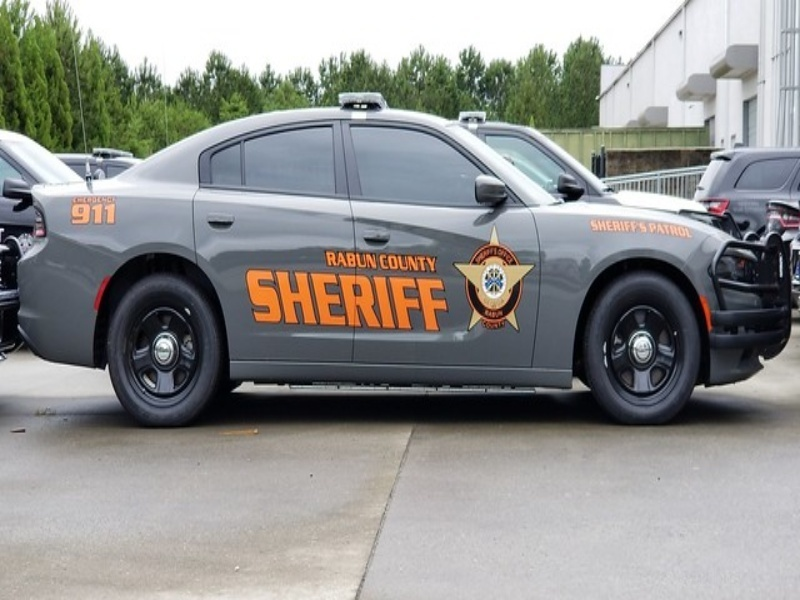policecar: (45, 129, 782, 405)
